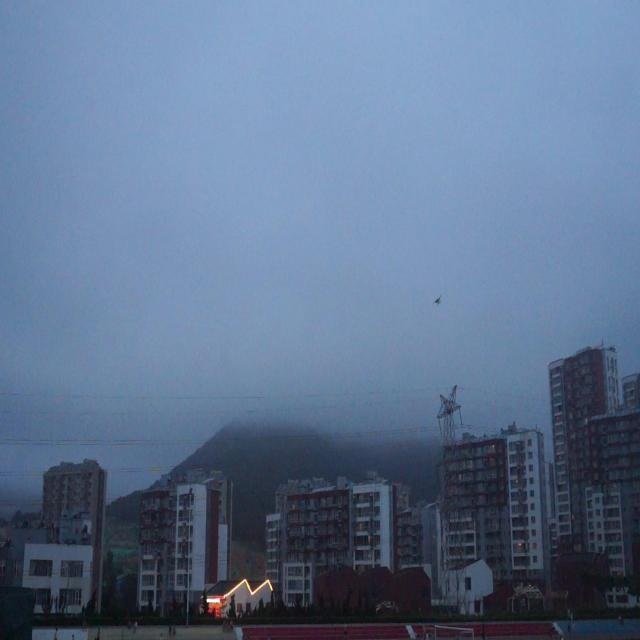drone: (432, 292, 443, 307)
